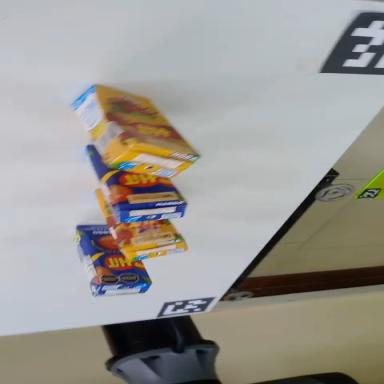HIT-MANGO: (65, 144, 194, 244), (66, 208, 153, 310)
HIT-MORA: (60, 63, 201, 208), (77, 189, 193, 279)
cara_F: (87, 64, 199, 183), (70, 143, 190, 228), (79, 189, 187, 267), (75, 207, 152, 302)
